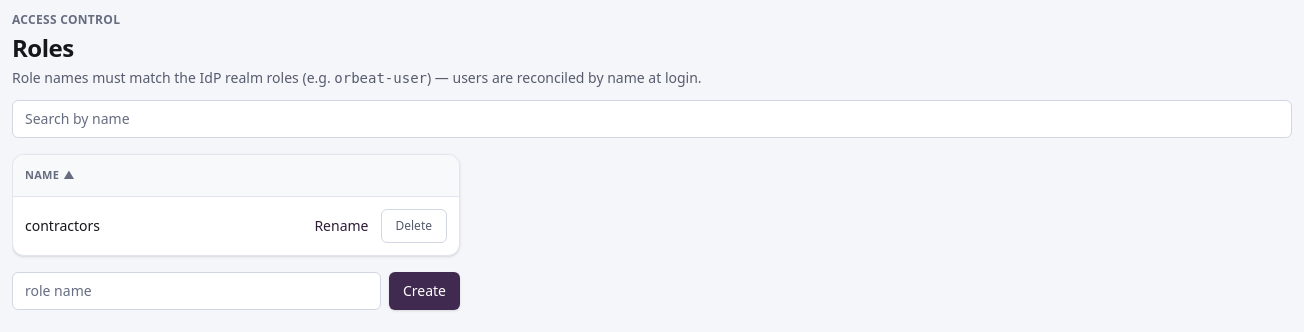
Rename opens an inline edit with no checkbox: the API has not asked for one yet
Step 1. Click the button with aria-label "Rename contractors" → coordinates (341, 226), box [314,216,368,236]
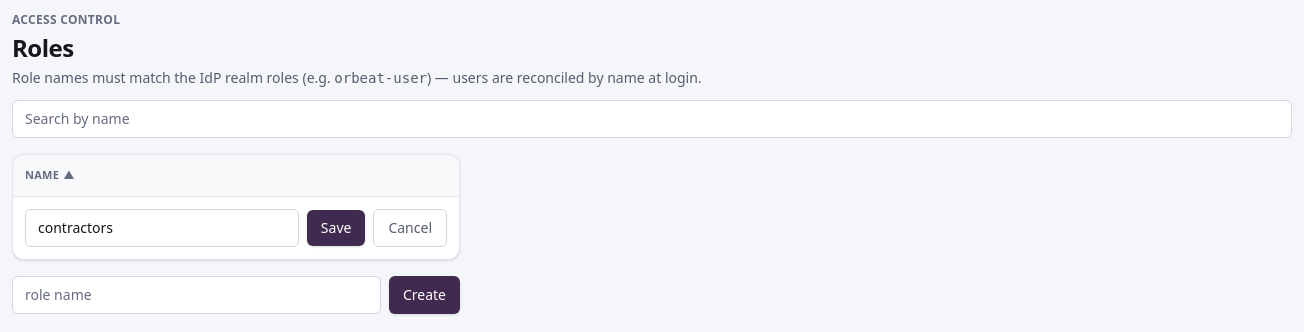
Result: the field named "New name for contractors" holds "contractors" at [25,208,299,246]
Result: the button "Save" is shown at [307,210,365,246]
Result: the button "Cancel" is shown at [373,208,447,246]
